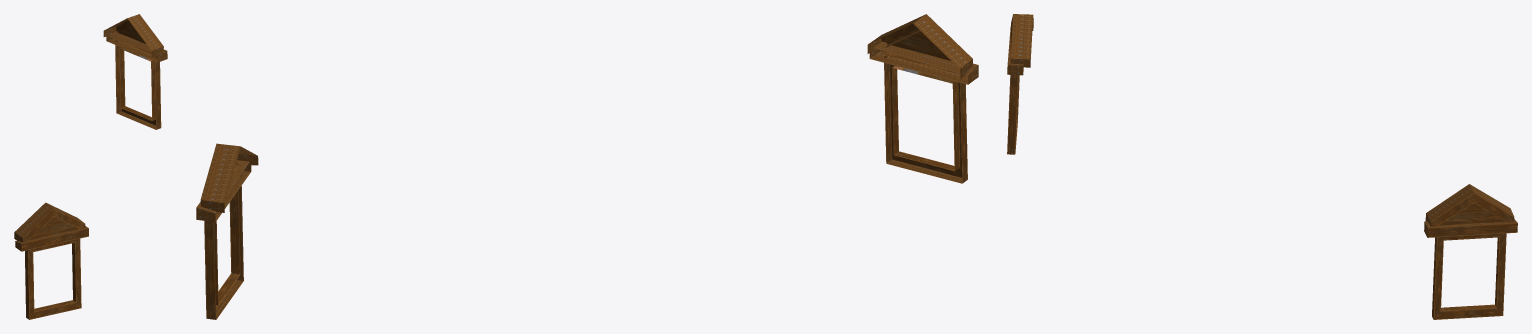
3 views of the same model, side by side, from view 1: azimuth 30°, elevation 25°; view 2: azimuth 150°, elevation 25°; view 3: azimuth 270°, elevation 25° (orthographic). The views are drawn at different scales.
Parts seen in each view (by area): view 1: Cube.2091; view 2: Cube.2091; view 3: Cube.2091.
Boxes of the visible parts, x1,y1,x2,y2 form: Cube.2091: (14,14,167,319); Cube.2091: (196,14,978,319); Cube.2091: (1007,14,1517,319).
Size of the model in its own units: 1064 by 377 by 1225.
1 material, 1 textured.
